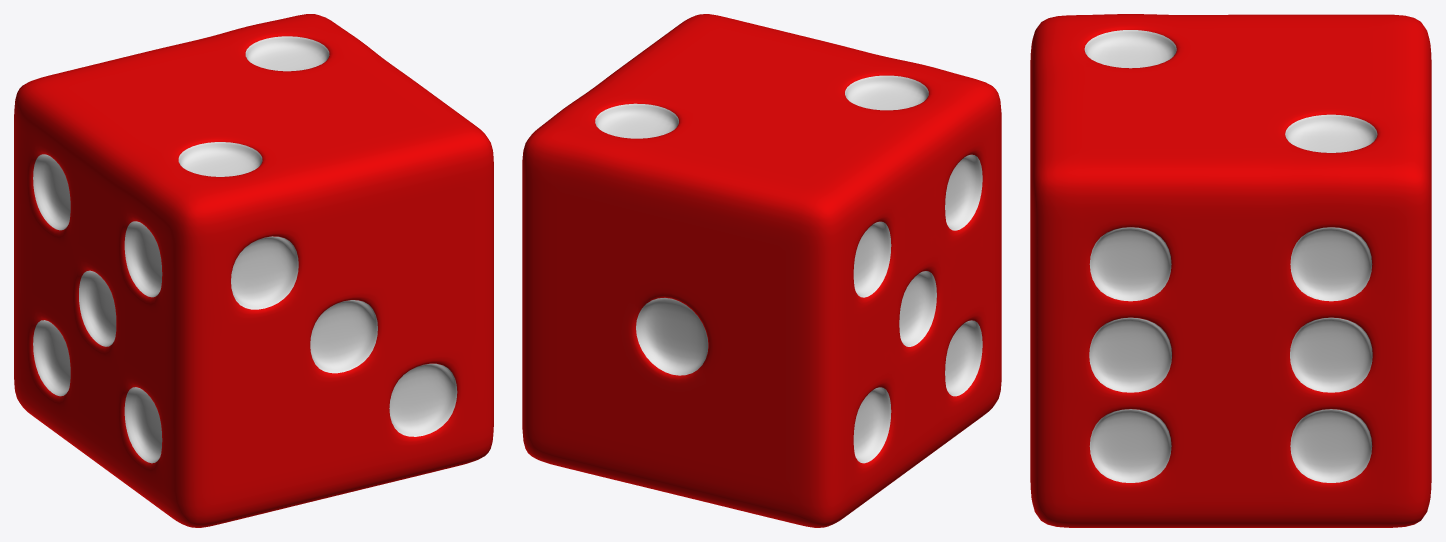
The model's file is dice.fbx.
3 views of the same model, side by side, from view 1: azimuth 30°, elevation 25°; view 2: azimuth 150°, elevation 25°; view 3: azimuth 270°, elevation 25° (orthographic). The views are drawn at different scales.
Parts seen in each view (by area): view 1: Cube; view 2: Cube; view 3: Cube.
Boxes of the visible parts, left/top/right/bottom form: Cube: left=14, top=14, right=493, bottom=527; Cube: left=522, top=14, right=1001, bottom=527; Cube: left=1030, top=14, right=1431, bottom=527.
Size of the model in its own units: 200 by 200 by 200.
